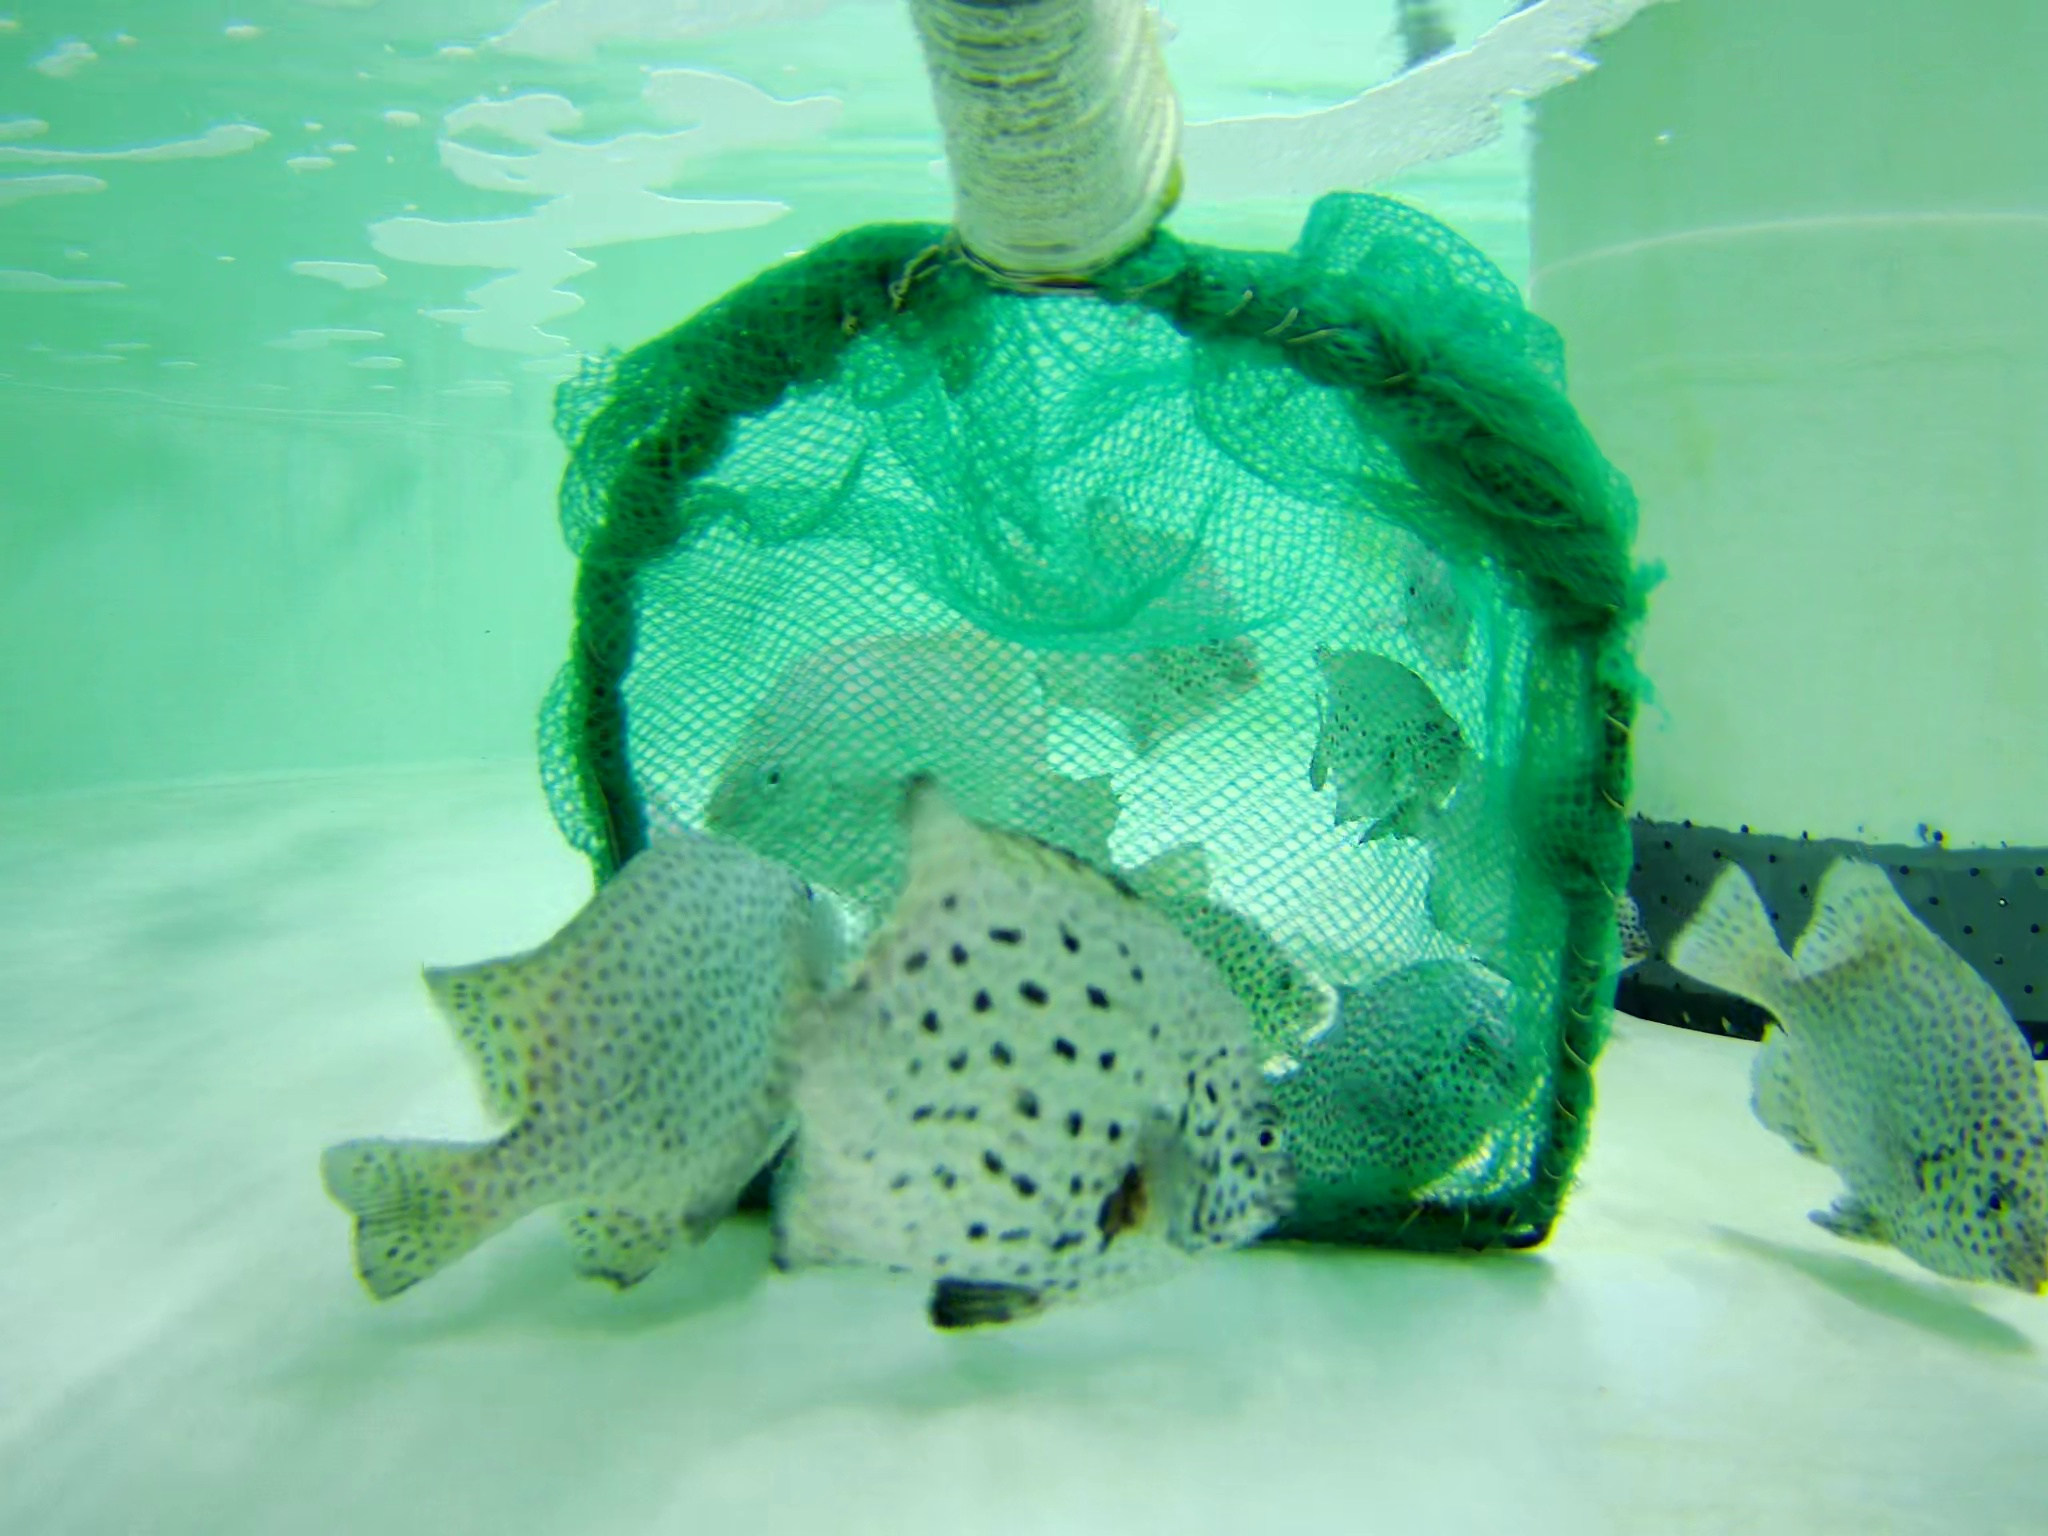fish: (724, 812, 1276, 1344), (308, 821, 856, 1310), (1671, 815, 2048, 1294), (719, 620, 1124, 883), (1232, 929, 1555, 1236), (1043, 500, 1276, 766), (1382, 783, 1637, 997), (1074, 870, 1319, 1068), (1313, 629, 1476, 833), (1403, 473, 1485, 679)
